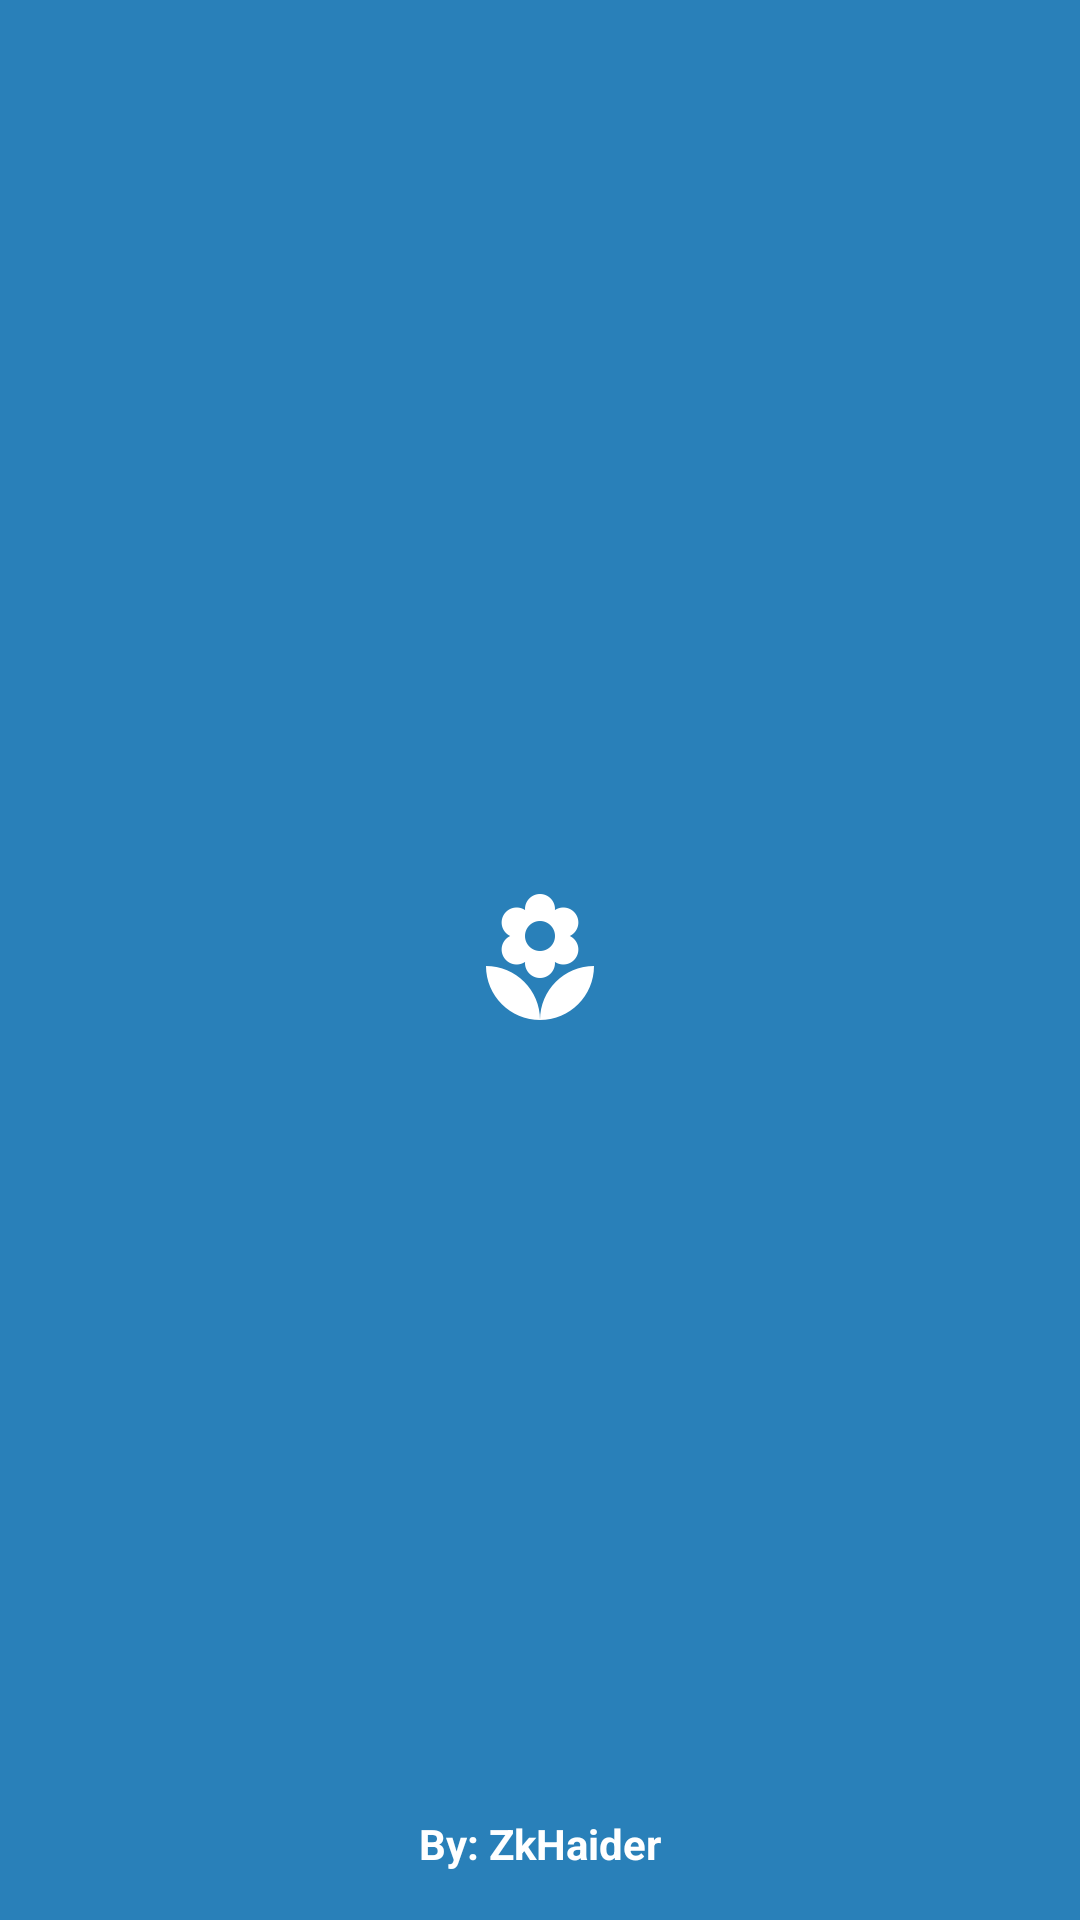

Locate icon controls on the screen. Image size 1080w x 1920h, boxes as detection(x1, y1, x2, y2).
local florist: detection(486, 894, 594, 1020)
